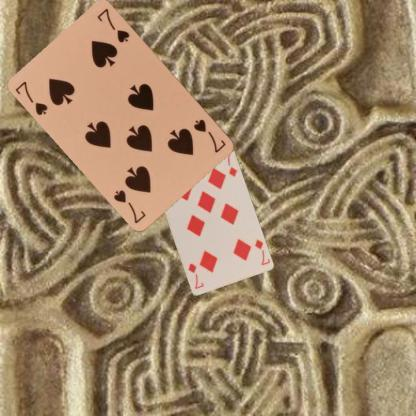7d: (252, 236, 271, 266)
7s: (12, 78, 50, 116), (190, 117, 228, 154)
